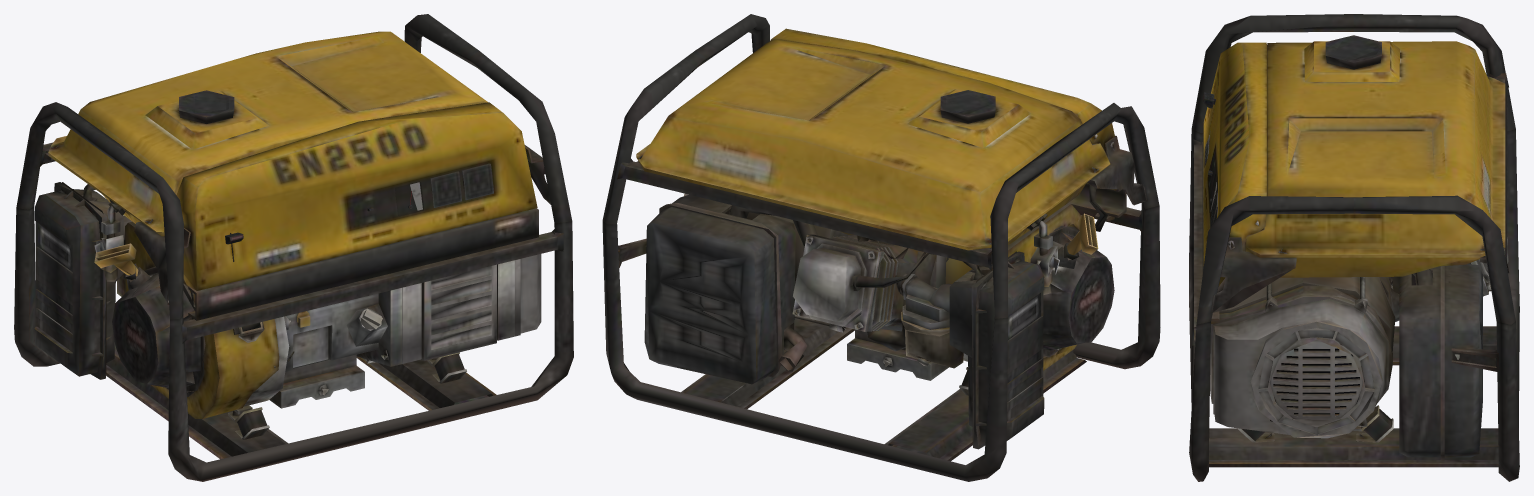
The picture shows the model from 3 angles, left to right: view 1: azimuth 30°, elevation 25°; view 2: azimuth 150°, elevation 25°; view 3: azimuth 270°, elevation 25°; orthographic projection.
Parts seen in each view (by area): view 1: portable_generator; view 2: portable_generator; view 3: portable_generator.
Part boxes in pixels (x1=…): portable_generator: x1=14, y1=14, x2=573, y2=481; portable_generator: x1=602, y1=14, x2=1160, y2=481; portable_generator: x1=1189, y1=14, x2=1519, y2=481.
Size of the model in its own units: 0.8146 by 0.5752 by 0.5615.
2 materials, 2 textured.
